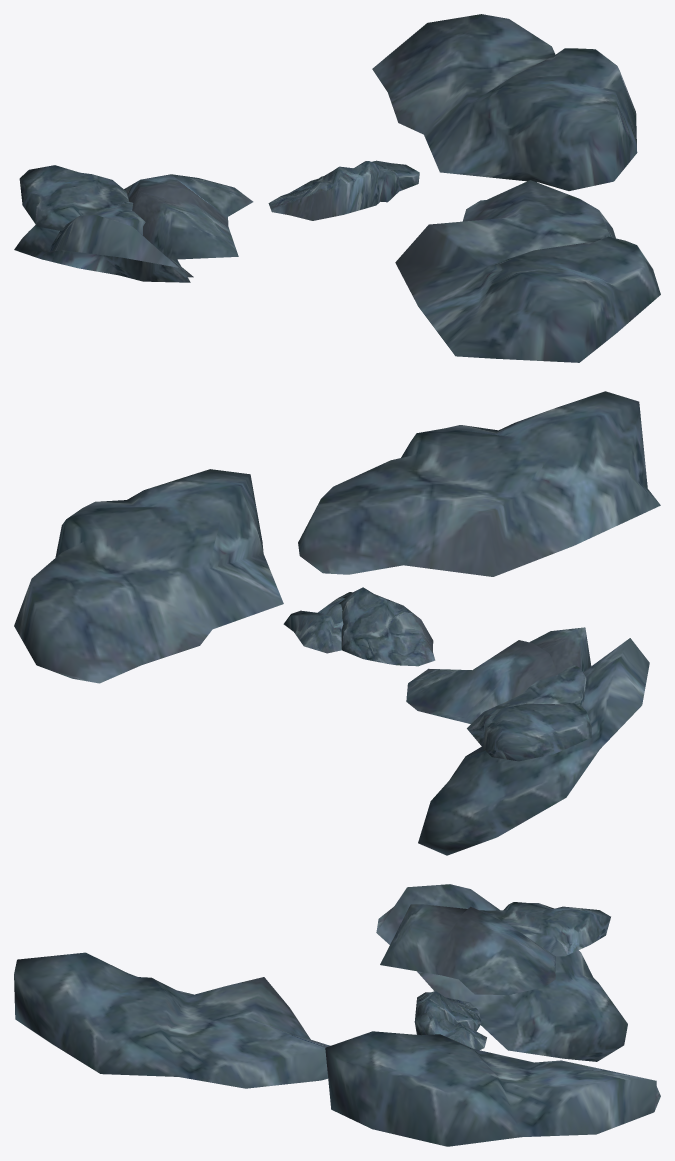
The picture shows the model from 3 angles, top to bottom: view 1: azimuth 30°, elevation 25°; view 2: azimuth 150°, elevation 25°; view 3: azimuth 270°, elevation 25°; orthographic projection. The views are drawn at different scales.
Parts seen in each view (by area): view 1: Combined_Mesh_root_scene_2_Mesh_polySurface4170; view 2: Combined_Mesh_root_scene_2_Mesh_polySurface4170; view 3: Combined_Mesh_root_scene_2_Mesh_polySurface4170.
Boxes of the visible parts, x1,y1,x2,y2 form: Combined_Mesh_root_scene_2_Mesh_polySurface4170: [14, 14, 660, 362]; Combined_Mesh_root_scene_2_Mesh_polySurface4170: [14, 391, 660, 855]; Combined_Mesh_root_scene_2_Mesh_polySurface4170: [14, 884, 660, 1146].
Bounding box in the file's own units: 16.07 × 4.97 × 17.59.
